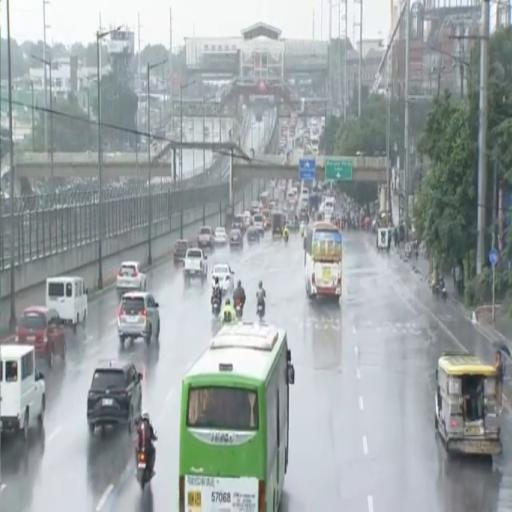bus: (179, 324, 294, 511), (304, 221, 342, 299), (319, 197, 335, 221), (260, 191, 269, 209)
car: (0, 344, 46, 441), (87, 361, 142, 433), (17, 306, 66, 366), (117, 293, 160, 346), (116, 261, 146, 295), (212, 264, 234, 294), (174, 239, 191, 262), (198, 227, 214, 248), (246, 227, 260, 244), (230, 230, 243, 248), (215, 227, 227, 245), (253, 214, 264, 233), (233, 216, 245, 230), (243, 211, 251, 229), (250, 201, 260, 215)
jeepney: (435, 352, 501, 455)
motorcycle: (136, 450, 152, 490), (438, 280, 446, 301), (212, 296, 220, 315), (257, 302, 265, 321), (236, 300, 243, 318), (432, 283, 440, 298), (441, 286, 447, 301), (283, 233, 288, 244)
truck: (184, 248, 207, 281)
